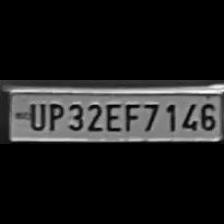1: (160, 102, 176, 132)
2: (84, 102, 102, 132)
3: (64, 100, 84, 132)
4: (177, 100, 197, 132)
6: (197, 100, 217, 132)
7: (139, 100, 159, 132)
E: (103, 100, 121, 132)
F: (122, 101, 140, 131)
P: (46, 100, 64, 132)
U: (24, 102, 44, 131)
